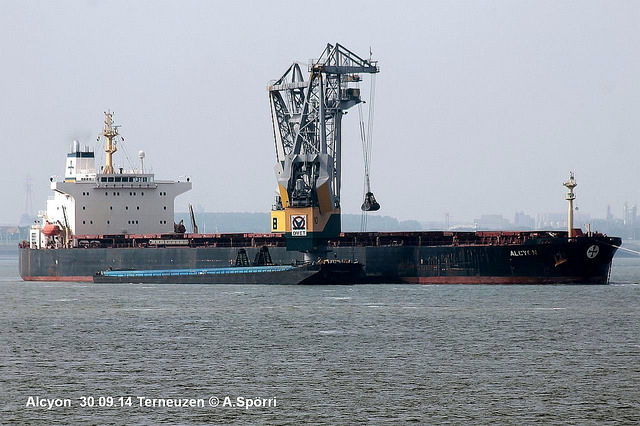bulk carrier: (18, 107, 619, 284)
